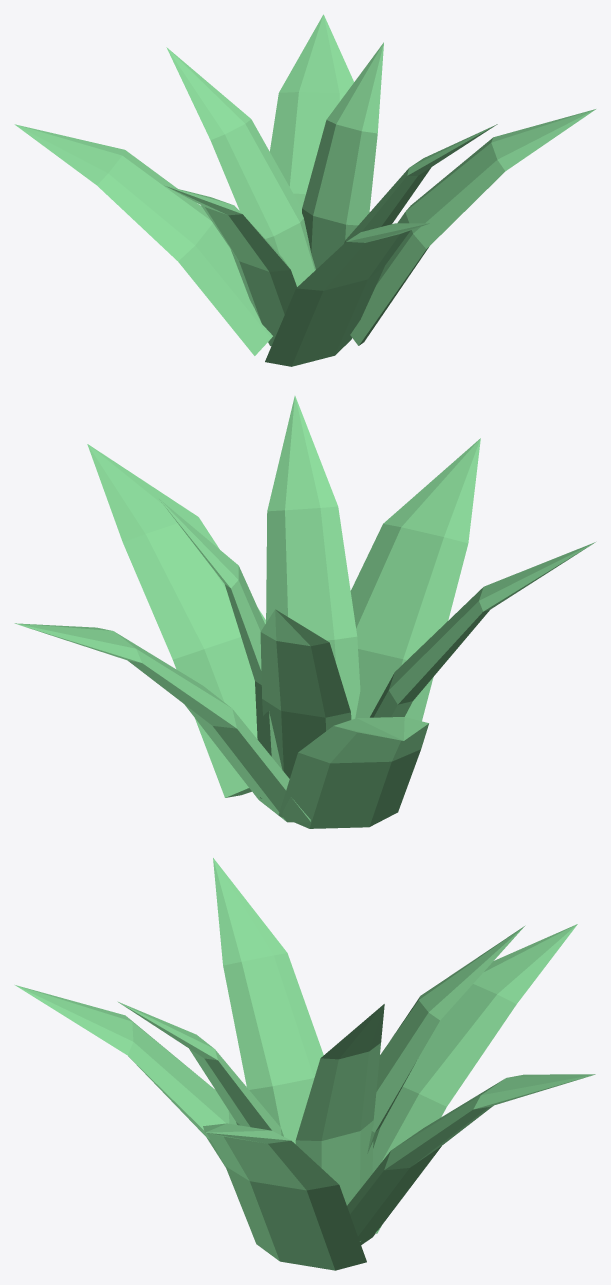
File: agave.glb
The picture shows the model from 3 angles, top to bottom: view 1: azimuth 30°, elevation 25°; view 2: azimuth 150°, elevation 25°; view 3: azimuth 270°, elevation 25°; orthographic projection. The views are drawn at different scales.
Parts seen in each view (by area): view 1: Agave1; view 2: Agave1; view 3: Agave1.
Boxes of the visible parts, x1,y1,x2,y2 form: Agave1: (14,14,595,366); Agave1: (14,396,595,828); Agave1: (15,858,595,1270).
Bounding box in the file's own units: 0.0578 × 0.0342 × 0.058.
